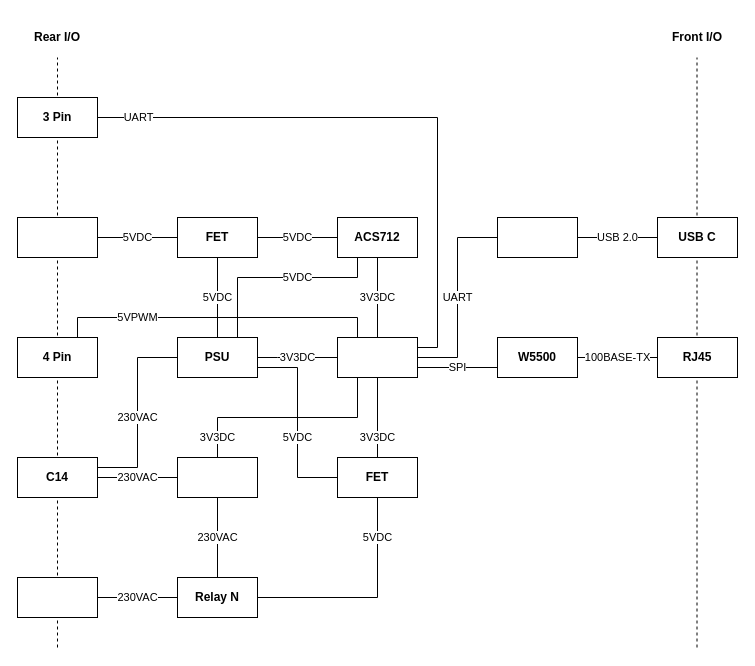
Some shapes in this 755 by 666 pixel diagram are drawn without their labels. The shapes that lost their labels are listed below. From the top down, each one's box as (x1, y1, x2, y2) in pixels, then its label:
(16, 216, 98, 258): 2 Pin
(496, 216, 578, 258): CP2102
(336, 336, 418, 378): ESP32-S2
(176, 456, 258, 498): ACS712 N
(16, 576, 98, 618): C13 N
